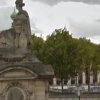Statue: (6, 0, 37, 50)
